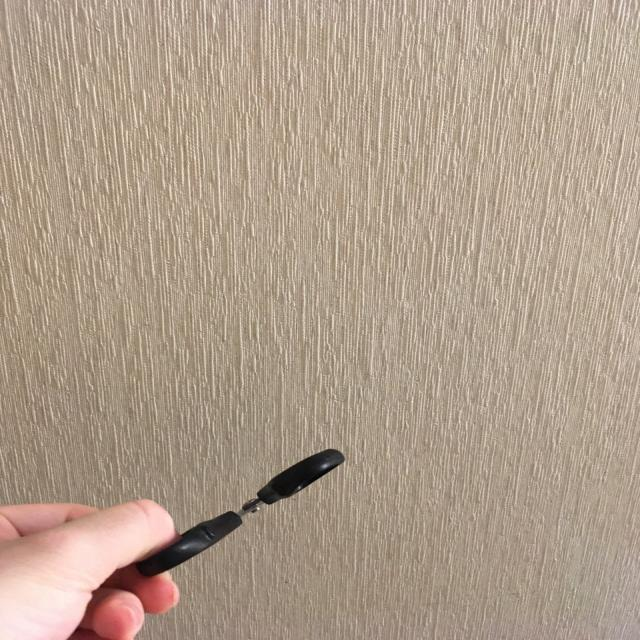scissors: (134, 447, 356, 580)
